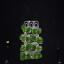leaf: (37, 37, 43, 44), (26, 52, 32, 59), (26, 28, 32, 34), (31, 28, 37, 34), (30, 35, 36, 41), (36, 45, 42, 51), (21, 25, 26, 32), (19, 46, 26, 51), (37, 28, 42, 34), (21, 34, 26, 40), (37, 37, 43, 42), (31, 44, 36, 50), (20, 55, 26, 60), (26, 37, 31, 42), (26, 44, 31, 49), (20, 52, 26, 56), (26, 47, 31, 51), (37, 48, 41, 53), (37, 54, 42, 58), (32, 53, 36, 58), (33, 29, 37, 33), (20, 36, 24, 40), (33, 38, 37, 42), (22, 46, 26, 50), (21, 45, 25, 49), (36, 46, 39, 50), (34, 55, 37, 59), (22, 40, 25, 42)
